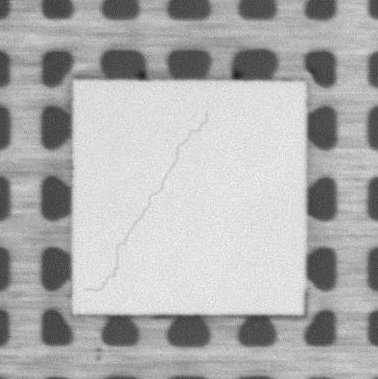DIE_CRACK: (84, 110, 210, 294)
